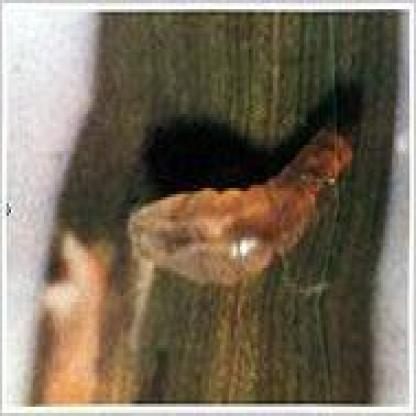whorl-maggot: (126, 126, 356, 292)
